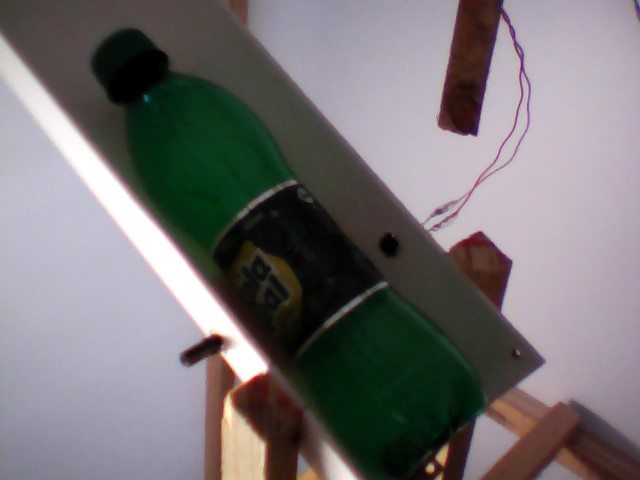plastico: (80, 17, 496, 480)
